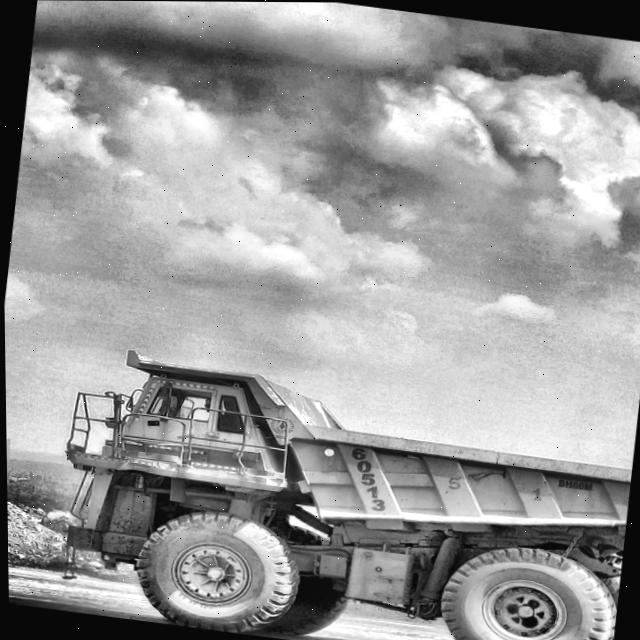dump_truck: (61, 350, 630, 640)
